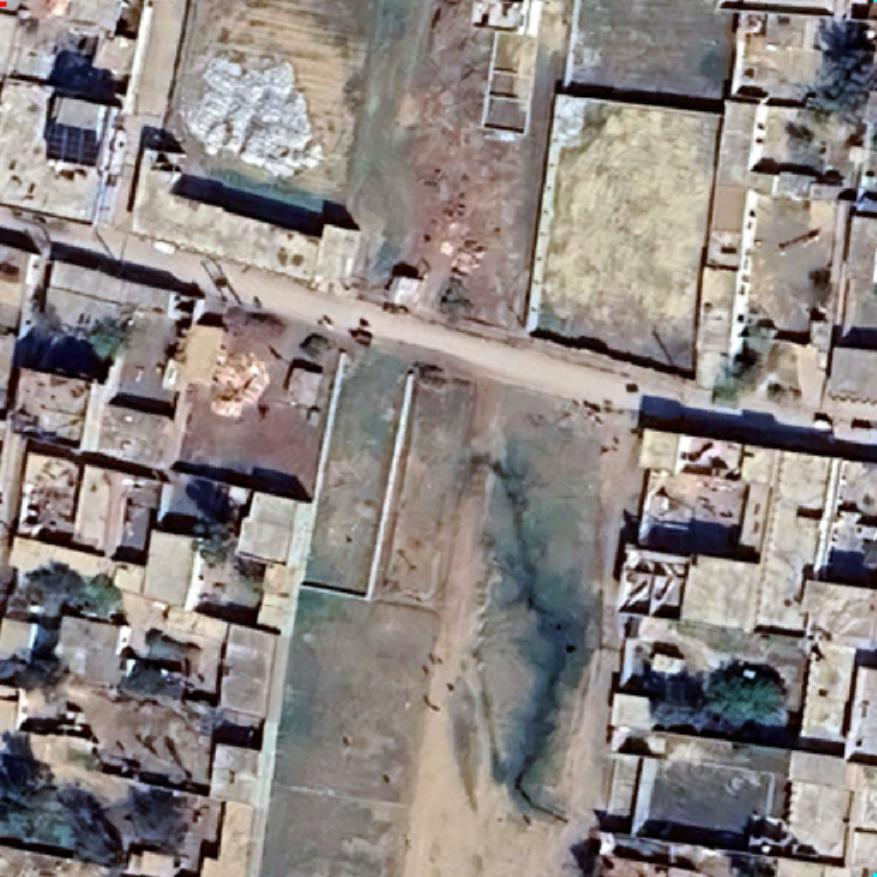Solarpanel: (41, 116, 105, 170)
